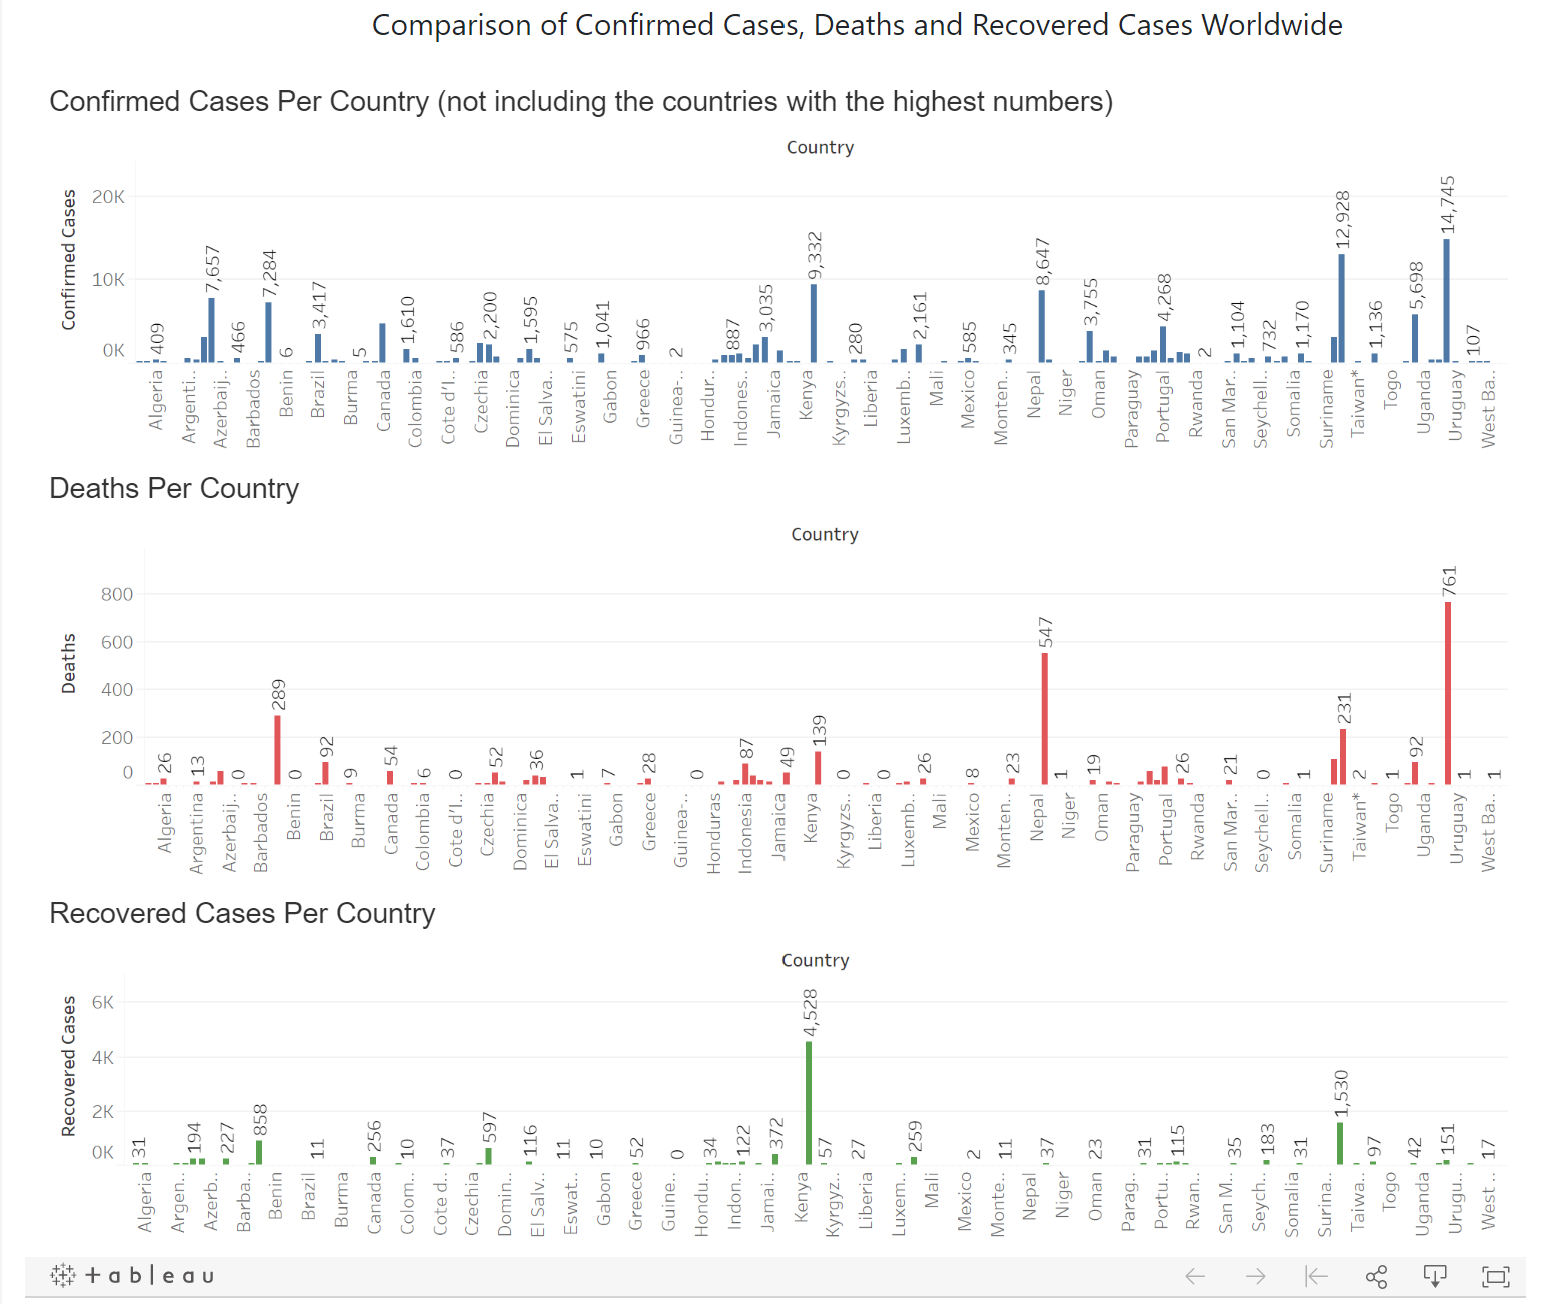

The page's visual inventory and layout, read from the dashboard file:
{"tool":"tableau","page":{"name":"Dashboard 1","canvas":[1000,800],"ordinal":0},"visuals":[{"type":"worksheet","title":"CONFIRMED","mark":"Automatic","rows":["CONFIRMED CASES"],"cols":["COUNTRY"],"box":[8,8,984,258]},{"type":"worksheet","title":"DEATHS","mark":"Automatic","rows":["DEATHS"],"cols":["COUNTRY"],"box":[8,266,984,283]},{"type":"worksheet","title":"RECOVERED","mark":"Automatic","rows":["RECOVERED CASES"],"cols":["COUNTRY"],"box":[8,549,984,243]}]}

Visuals, with their boxes on the page's 1000x800 design canvas (x1, y1, x2, y2). These are canvas units, not pixel positions in the 1562x1304 screenshot, which may show the page scaled, cropped or inside an application window:
"CONFIRMED" worksheet: [x1=8, y1=8, x2=992, y2=266]
"DEATHS" worksheet: [x1=8, y1=266, x2=992, y2=549]
"RECOVERED" worksheet: [x1=8, y1=549, x2=992, y2=792]
